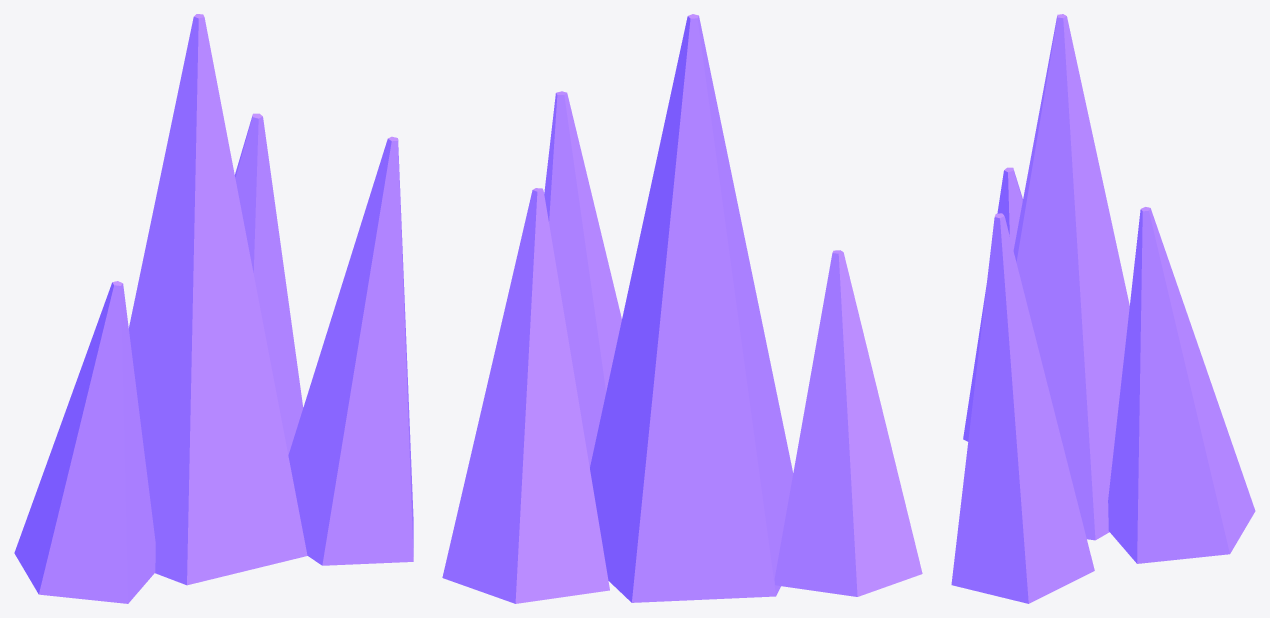
File: item-voidglass.glb
3 views of the same model, side by side, from view 1: azimuth 30°, elevation 25°; view 2: azimuth 150°, elevation 25°; view 3: azimuth 270°, elevation 25° (orthographic). The views are drawn at different scales.
Parts seen in each view (by area): view 1: item-voidglass; view 2: item-voidglass; view 3: item-voidglass.
Boxes of the visible parts, x1,y1,x2,y2 form: item-voidglass: [14, 14, 413, 603]; item-voidglass: [442, 14, 922, 603]; item-voidglass: [951, 14, 1255, 603].
Bounding box in the file's own units: 0.2337 × 0.3118 × 0.1721.
